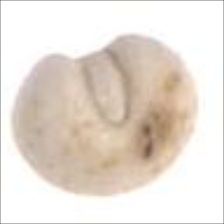L5: (80, 46, 136, 132), (87, 169, 171, 198)
L6: (9, 30, 201, 199)
